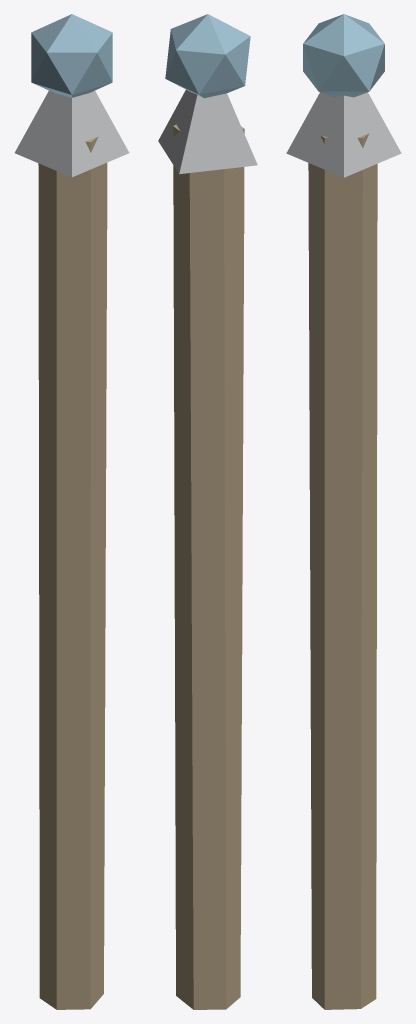
File: rod.glb
The picture shows the model from 3 angles, left to right: view 1: azimuth 90°, elevation 25°; view 2: azimuth 150°, elevation 25°; view 3: azimuth 270°, elevation 25°; orthographic projection.
Parts seen in each view (by area): view 1: rod; view 2: rod; view 3: rod.
Boxes of the visible parts, x1,y1,x2,y2 form: rod: (14,14,129,1009); rod: (158,14,257,1009); rod: (286,14,401,1009).
Size of the model in its own units: 0.12 by 1.13 by 0.12.
